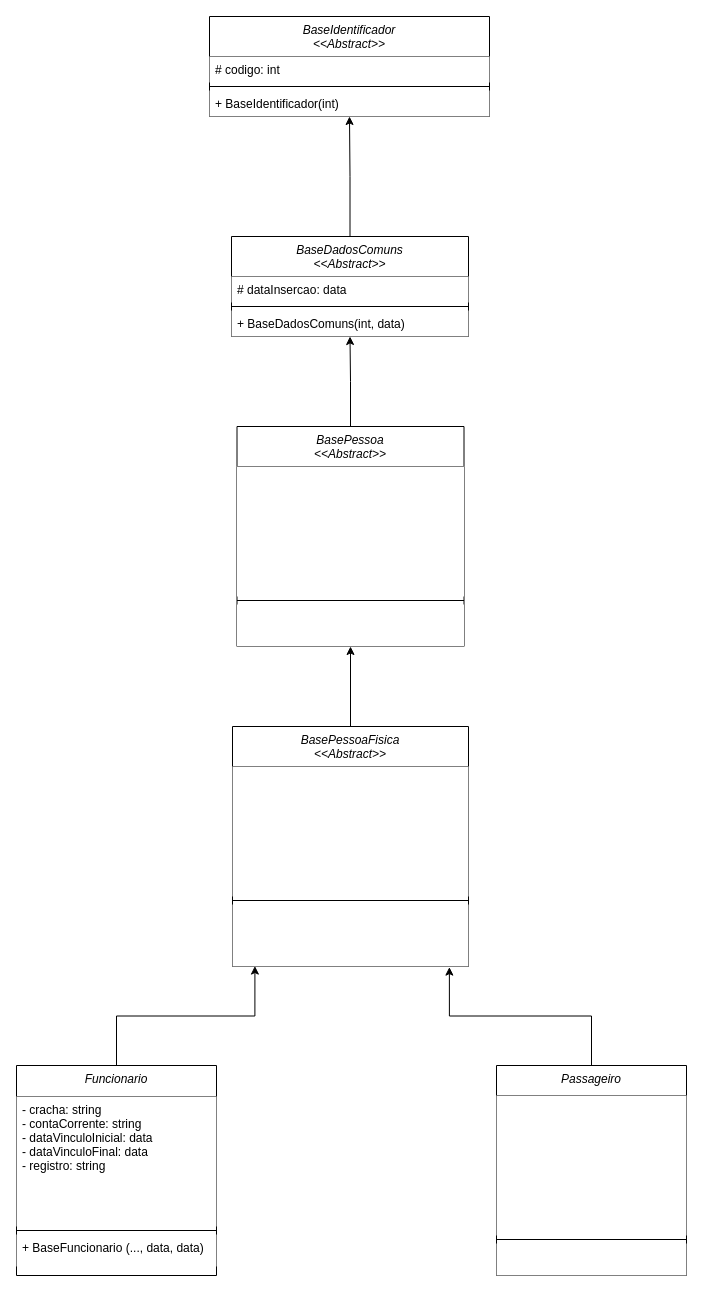
Image size: 703x1292. Some labels were removed from this diagram. The centre of each missing label's shape, as x and y in pixels:
"# nome: string # telefone : string" belongs at point (350, 531).
"# usuario: string # senha : string # registro: string # dataNascimento: data" belongs at point (350, 831).
"+ BasePessoa (int, data, string, string)" belongs at point (350, 625).
"+ BasePessoaFisica (int, data, string, string, string, string, string, data)" belongs at point (350, 935).
"+ Passageiro (...,string, string)" belongs at point (591, 1259).
"- email: string - numeroCartao: string - documento: string" belongs at point (591, 1165).
